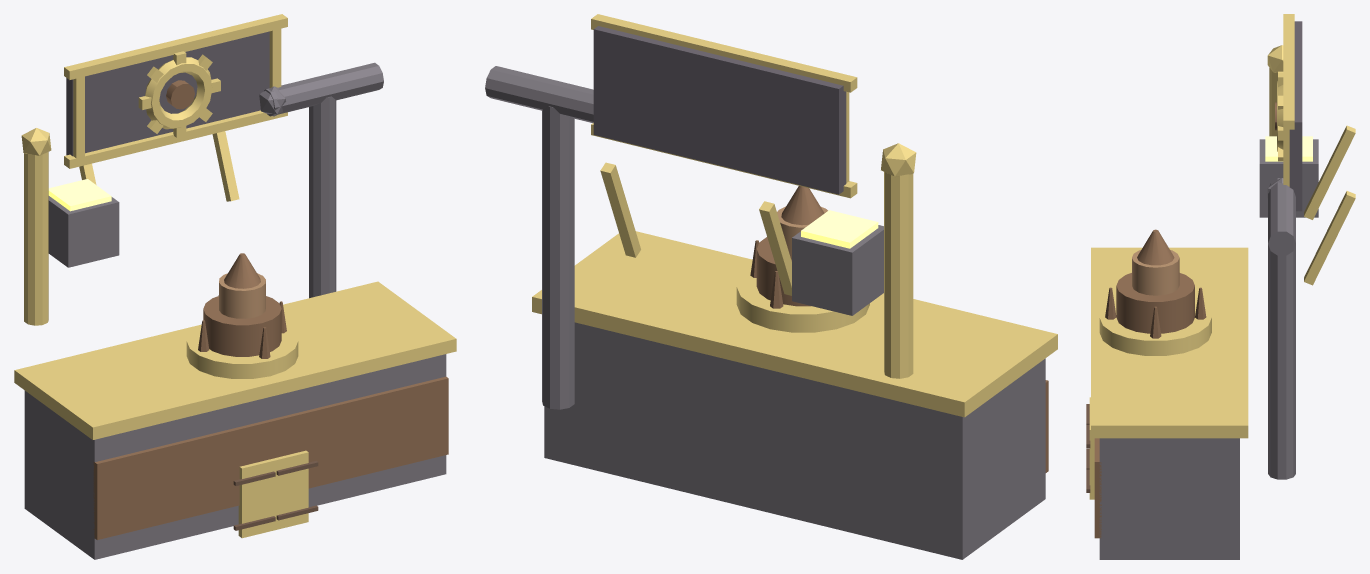
The model's file is stall_choco.glb.
3 views of the same model, side by side, from view 1: azimuth 30°, elevation 25°; view 2: azimuth 150°, elevation 25°; view 3: azimuth 270°, elevation 25° (orthographic). The views are drawn at different scales.
Visible parts, largest first — view 1: stall_choco; view 2: stall_choco; view 3: stall_choco.
Part boxes in pixels (x1=…): stall_choco: x1=14, y1=14, x2=456, y2=559; stall_choco: x1=485, y1=14, x2=1057, y2=559; stall_choco: x1=1086, y1=14, x2=1355, y2=559.
Bounding box in the file's own units: 3.13 × 3.27 × 1.92.
